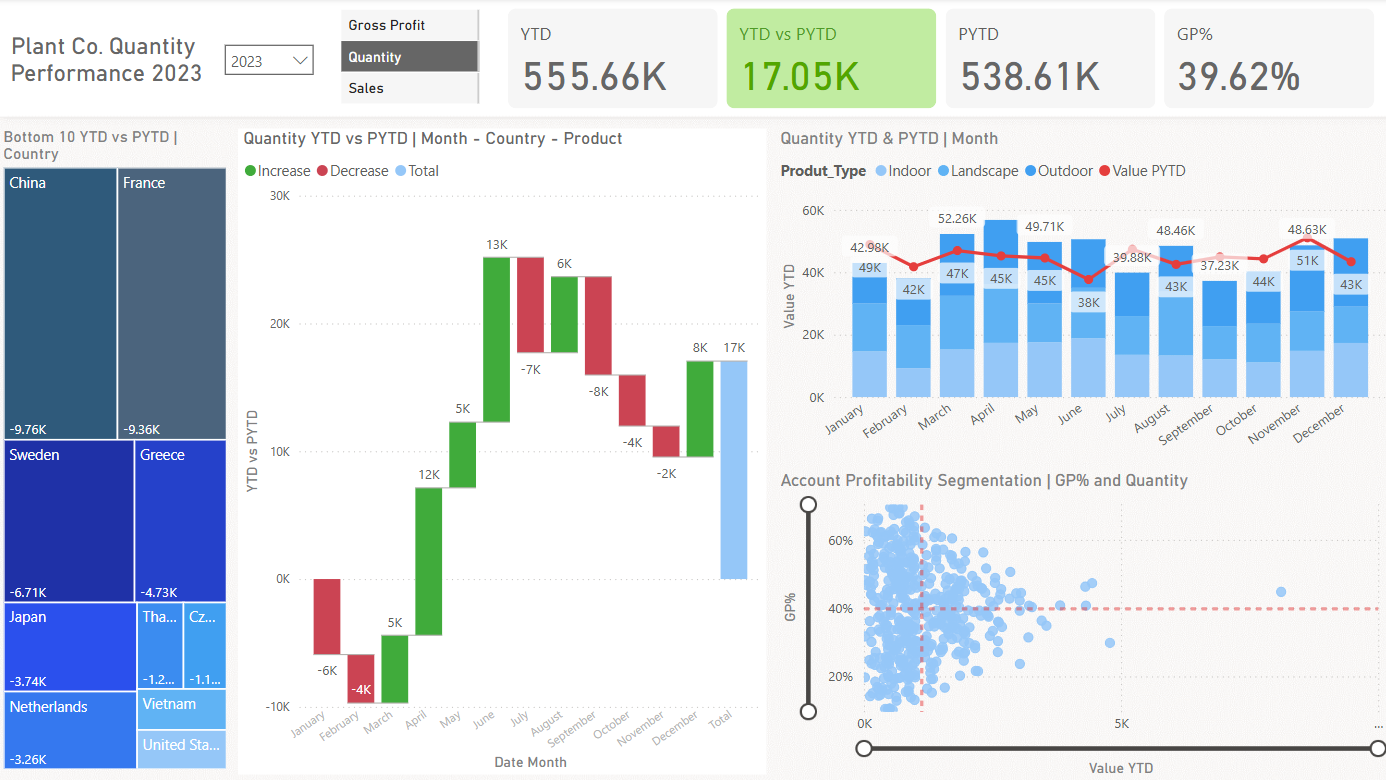

Layout of this report page (visuals, bound fields, positions):
{"tool":"powerbi","page":{"name":"Performance Report","canvas":[1280,720],"ordinal":0},"visuals":[{"type":"cardVisual","fields":{"Data":["_Measures.S_YTD","_Measures.YTD vs PYTD","_Measures.S_PYTD","_Measures.GP%"]},"box":[463,4.2,806.2,102.1],"z":0},{"type":"advancedSlicerVisual","fields":{"Values":["Slc_Values.Values"]},"box":[309.8,5.9,137.3,98],"z":1000},{"type":"slicer","fields":{"Values":["Dim_Date.Date.Variation.Date Hierarchy.Year"]},"box":[198.4,32.7,101.3,50.2],"z":2000},{"type":"treemap","title":"Bottom 10 YTD vs PYTD | Country","fields":{"Values":["_Measures.YTD vs PYTD"],"Group":["Dim_Account.country"]},"box":[0,118.7,214.6,594.4],"z":3000},{"type":"waterfallChart","fields":{"Y":["_Measures.YTD vs PYTD"],"Category":["Dim_Date.Date.Variation.Date Hierarchy.Month","Dim_Account.country","Dim_Product.Produt_Type","Dim_Product.Product_Name"]},"box":[220.3,119.6,485.2,593.5],"z":4000},{"type":"lineStackedColumnComboChart","fields":{"Y":["_Measures.S_YTD"],"Y2":["_Measures.S_PYTD"],"Category":["Dim_Date.Date.Variation.Date Hierarchy.Quarter","Dim_Date.Date.Variation.Date Hierarchy.Month"],"Series":["Dim_Product.Produt_Type"]},"box":[714.1,119.6,565.9,314.3],"z":5000},{"type":"scatterChart","fields":{"Y":["_Measures.GP%"],"X":["_Measures.S_YTD"],"Category":["Dim_Account.Account"]},"box":[714.1,433.9,565.9,285.8],"z":6000},{"type":"card","fields":{"Values":["_Measures._Report title"]},"box":[0,20.9,198.5,68.4],"z":7000}]}

Visuals, with their boxes in screenshot pixels (x1, y1, x2, y2), scaled from the page's 1280x720 canvas onto the 1386x780 screenshot:
cardVisual - _Measures.S_YTD x _Measures.YTD vs PYTD: 501:5:1374:115
advancedSlicerVisual - Slc_Values.Values: 335:6:484:113
slicer - Dim_Date.Date.Variation.Date Hierarchy.Year: 215:35:325:90
"Bottom 10 YTD vs PYTD | Country" treemap: 0:129:232:773
waterfallChart - _Measures.YTD vs PYTD x Dim_Date.Date.Variation.Date Hierarchy.Month: 239:130:764:773
lineStackedColumnComboChart - _Measures.S_YTD x _Measures.S_PYTD: 773:130:1385:470
scatterChart - _Measures.GP% x _Measures.S_YTD: 773:470:1385:779
card - _Measures._Report title: 0:23:215:97
